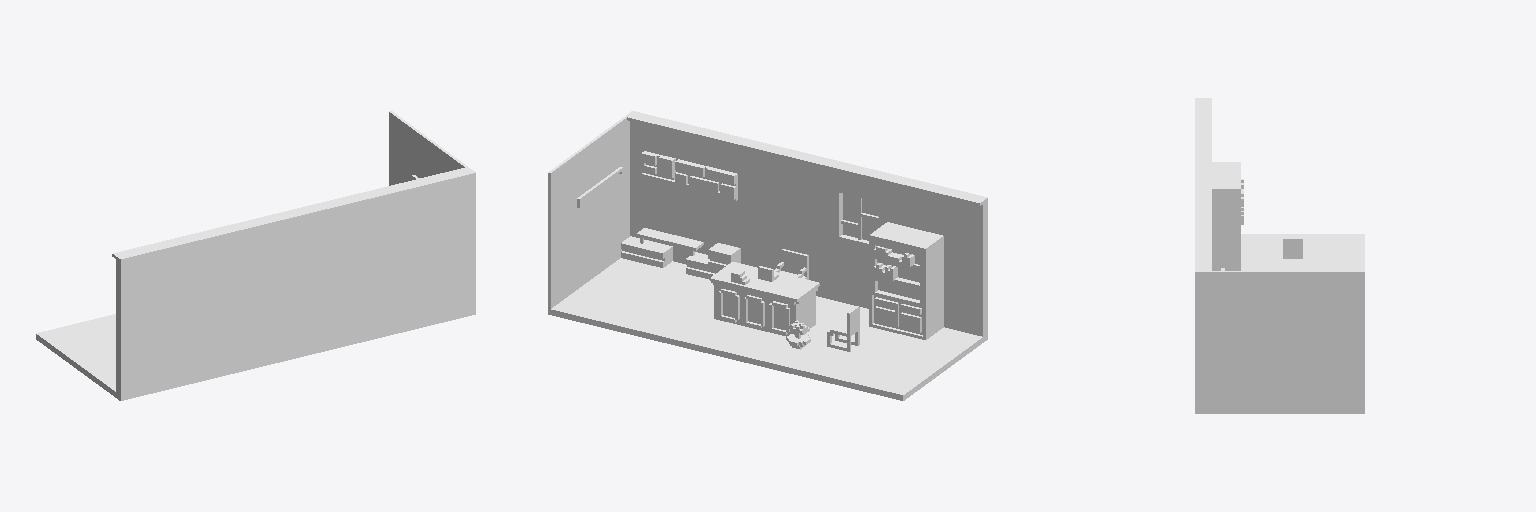
File: 事务所.obj
3 views of the same model, side by side, from view 1: azimuth 30°, elevation 25°; view 2: azimuth 150°, elevation 25°; view 3: azimuth 270°, elevation 25° (orthographic).
Parts seen in each view (by area): view 1: object 1; view 2: object 1; view 3: object 1.
Boxes of the visible parts, box(x1,y1,x2,y2) form: object 1: box(36, 111, 475, 400); object 1: box(548, 111, 987, 400); object 1: box(1195, 98, 1364, 413).
Size of the model in its own units: 12.6 by 4.8 by 5.2.